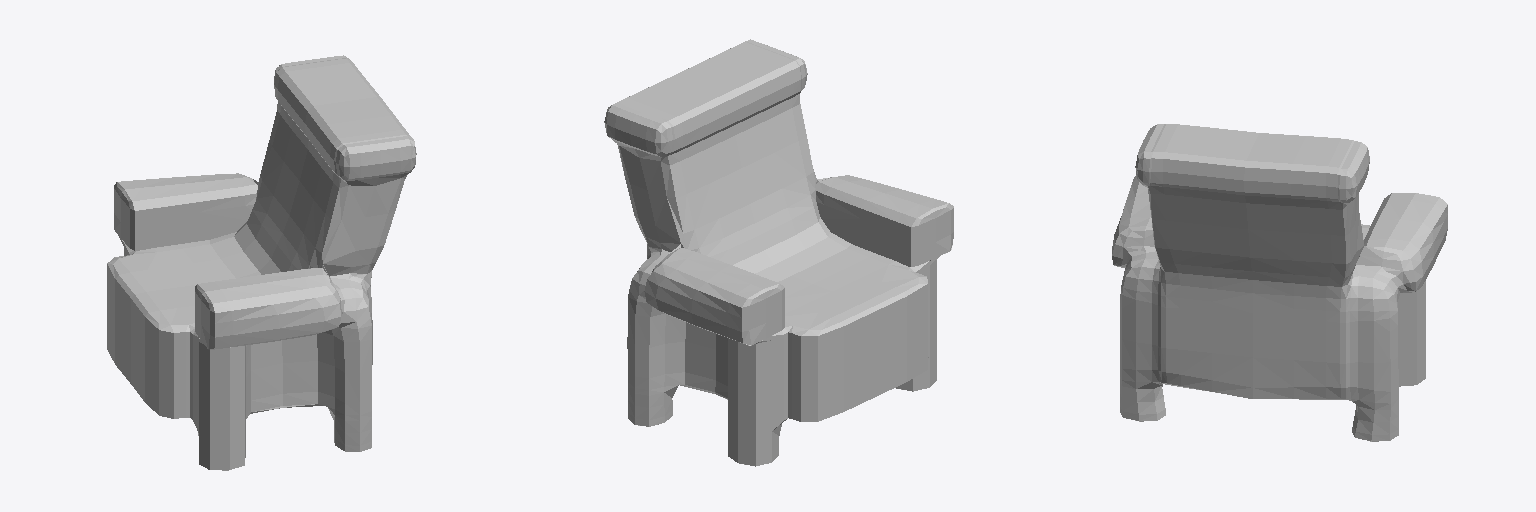
File: Sillon.obj
3 renders of one model, left to right at view 1: azimuth 30°, elevation 25°; view 2: azimuth 150°, elevation 25°; view 3: azimuth 270°, elevation 25°, orthographic.
Visible parts, largest first — view 1: Sillon_Sillon_Cube.001; view 2: Sillon_Sillon_Cube.001; view 3: Sillon_Sillon_Cube.001.
Part boxes in pixels (x1,y1,x2,y2): Sillon_Sillon_Cube.001: (107,55,416,470); Sillon_Sillon_Cube.001: (604,39,953,466); Sillon_Sillon_Cube.001: (1112,124,1447,441).
Size of the model in its own units: 2.8 by 3.06 by 3.17.